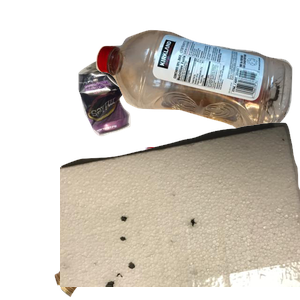glass: (52, 147, 292, 300)
metal: (75, 56, 198, 185)
plastic: (93, 27, 300, 154)
trash: (60, 120, 300, 300)
